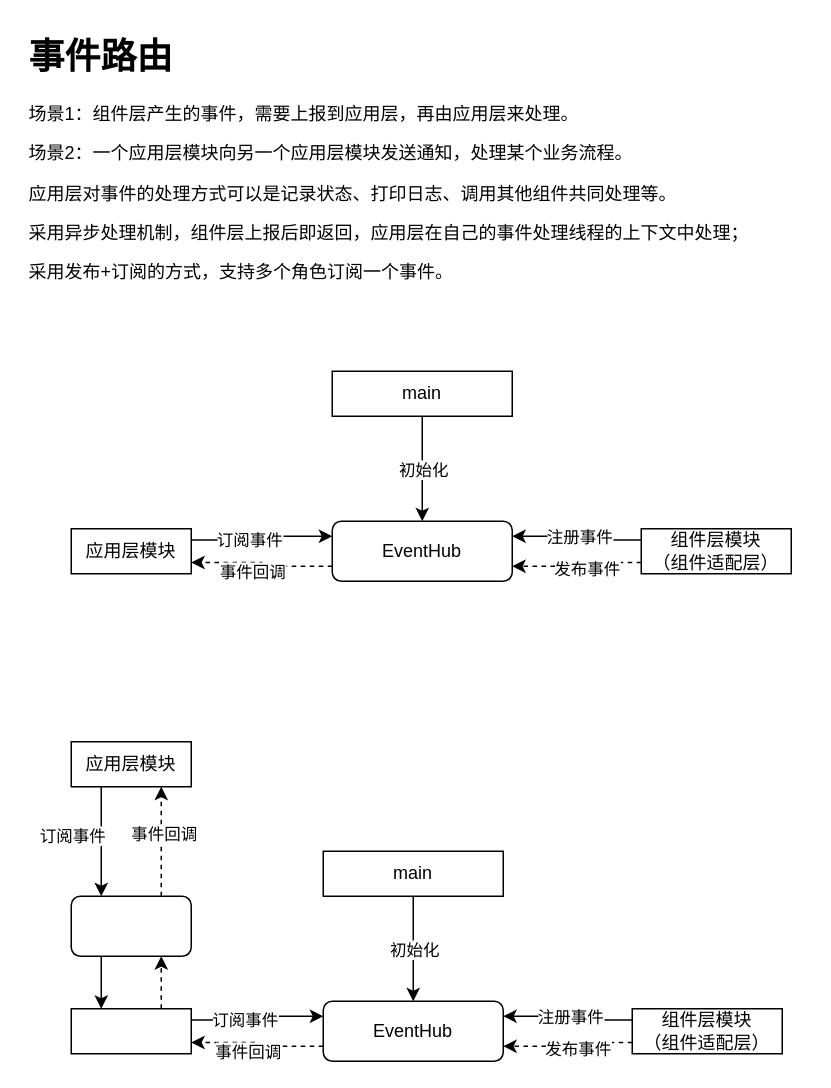
The diagram is 831 pixels wide and 1088 high, and some of its shapes have lost their labels. Each missing label, with the centre of its shape:
"应用层模块 （镜像）" belongs at (130,1030).
"进程间通信" belongs at (130,925).
